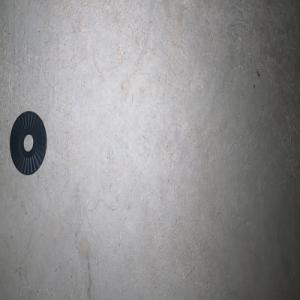Washer: (9, 110, 47, 174)
